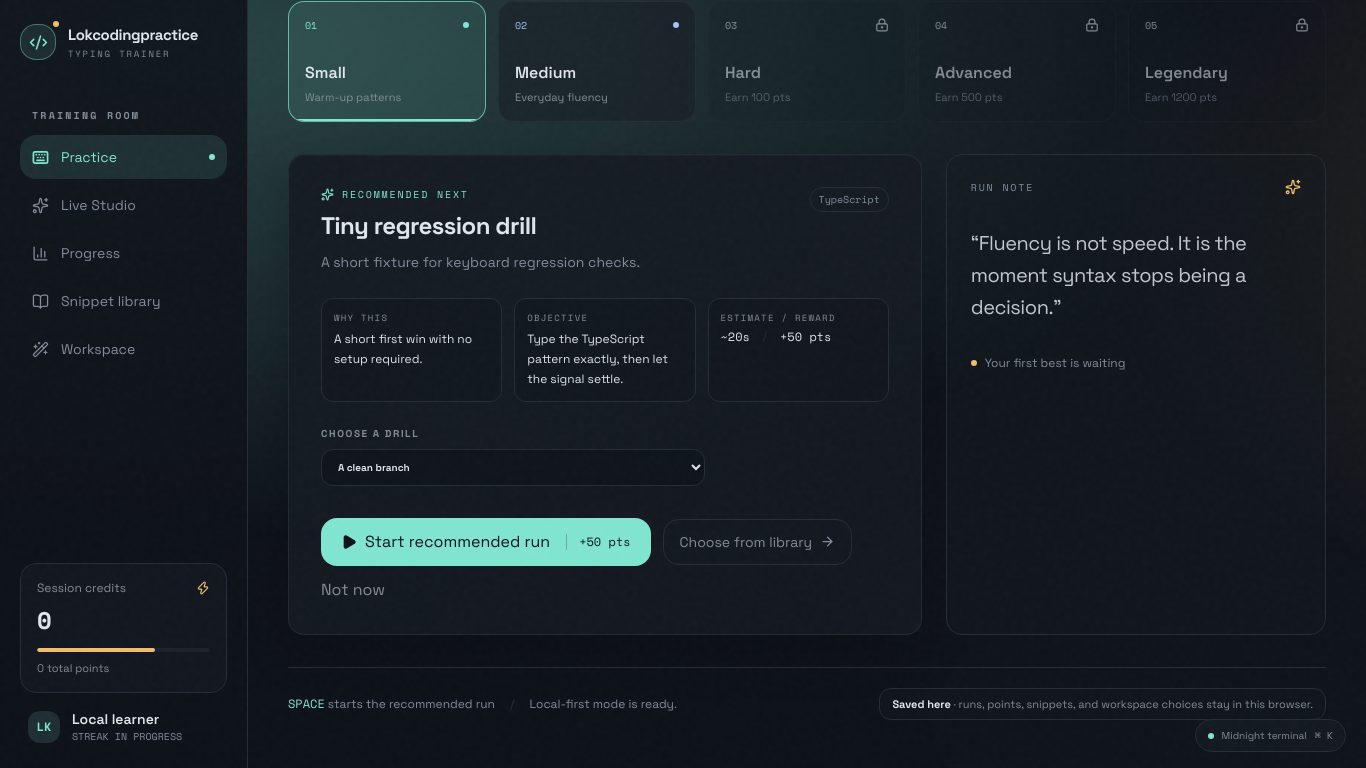
Scenario: typing drill regressions › abandons an active run without saving a result
The width and height of the screenshot is (1366, 768).
(page scrolled)
Select "Tiny regression drill · local" in the dropdown with test id "select-practice-snippet" at (513, 467), box left=321, top=448, right=705, bottom=486
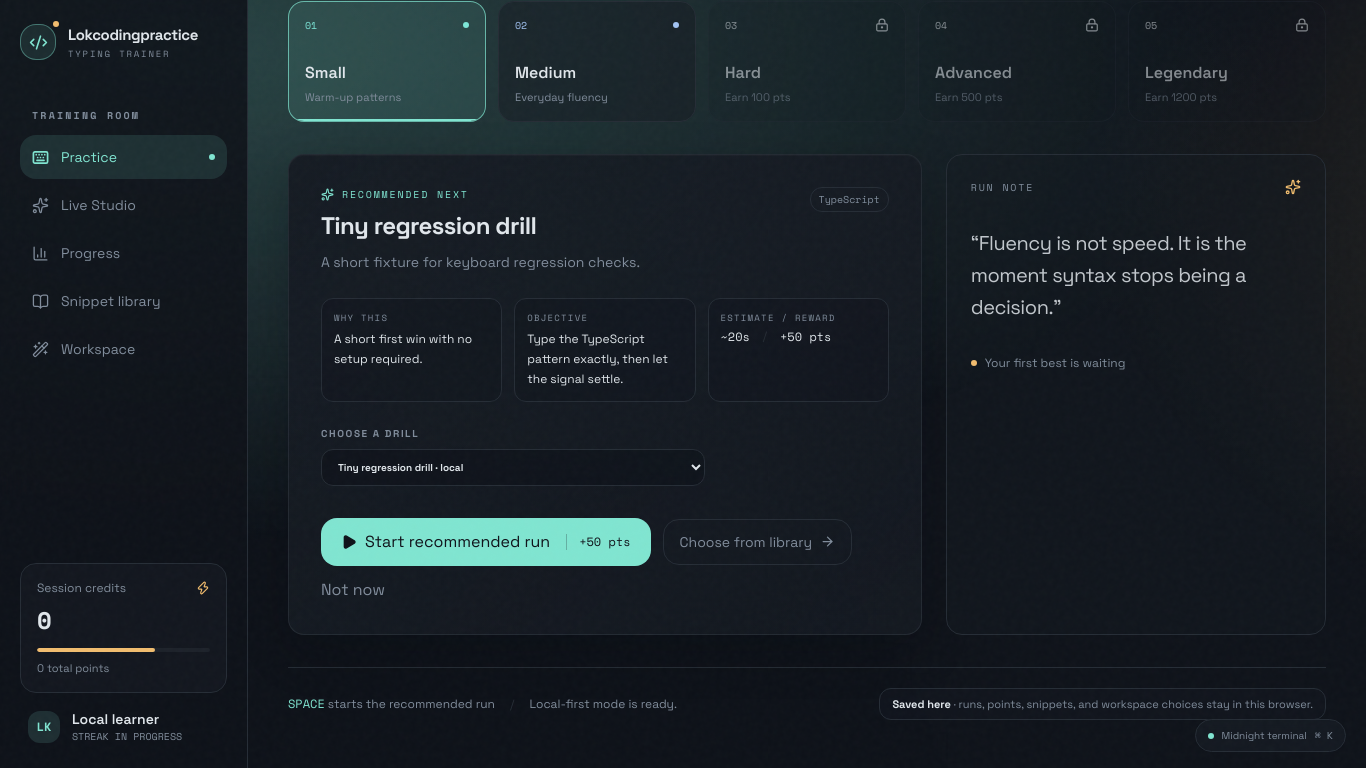
Click the button with test id "button-start-run".
click(486, 542)  # box left=321, top=518, right=651, bottom=566
(page scrolled)
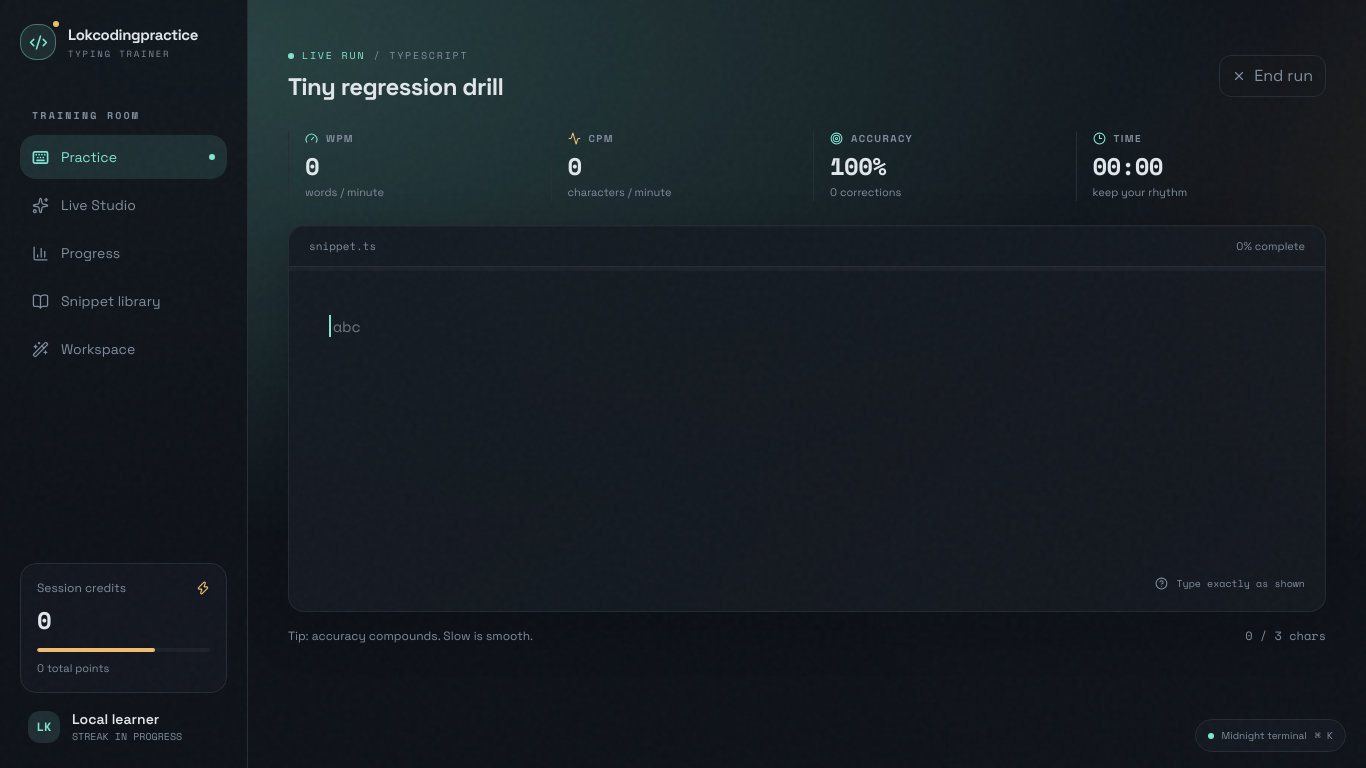
Press a in the field with test id "input-code-capture", box left=289, top=271, right=1325, bottom=611
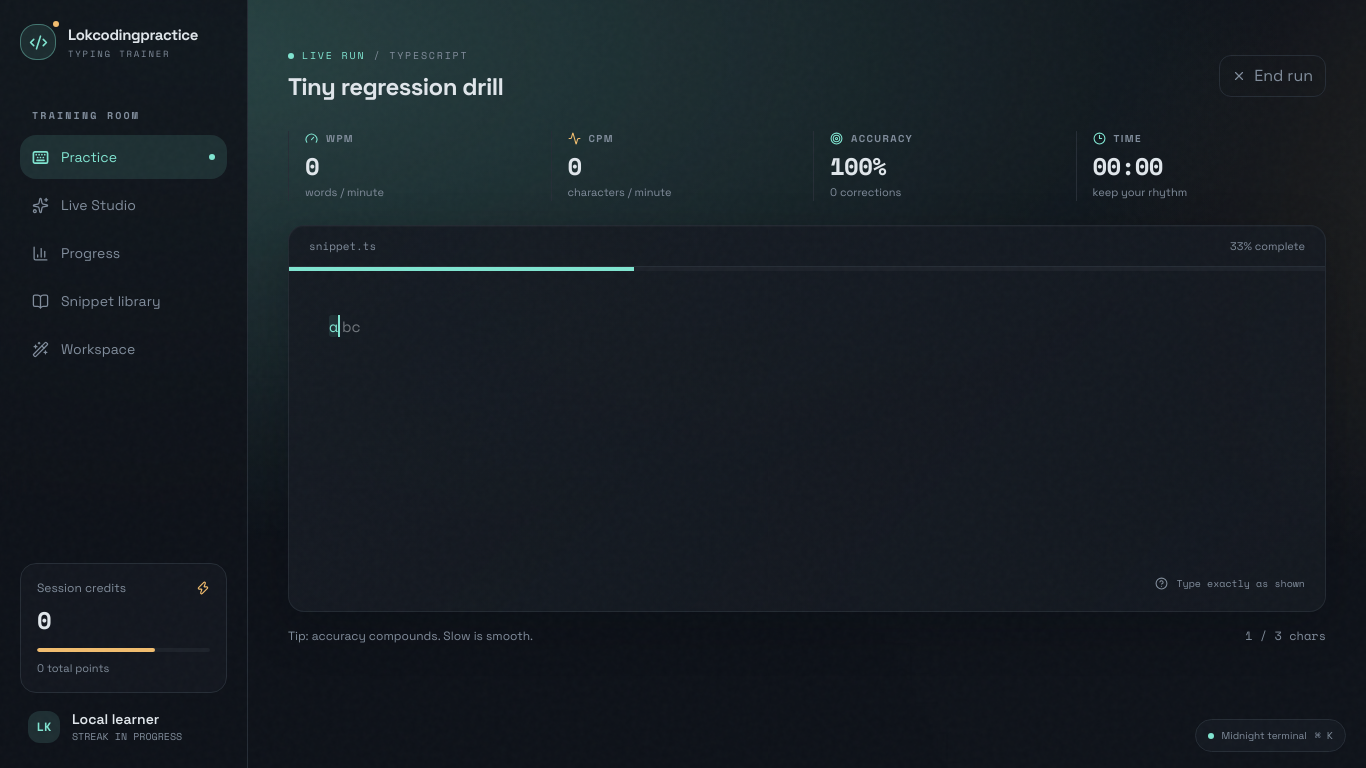
Click the button with test id "button-abandon-run".
click(1273, 76)  # box left=1219, top=54, right=1326, bottom=96
(page scrolled)
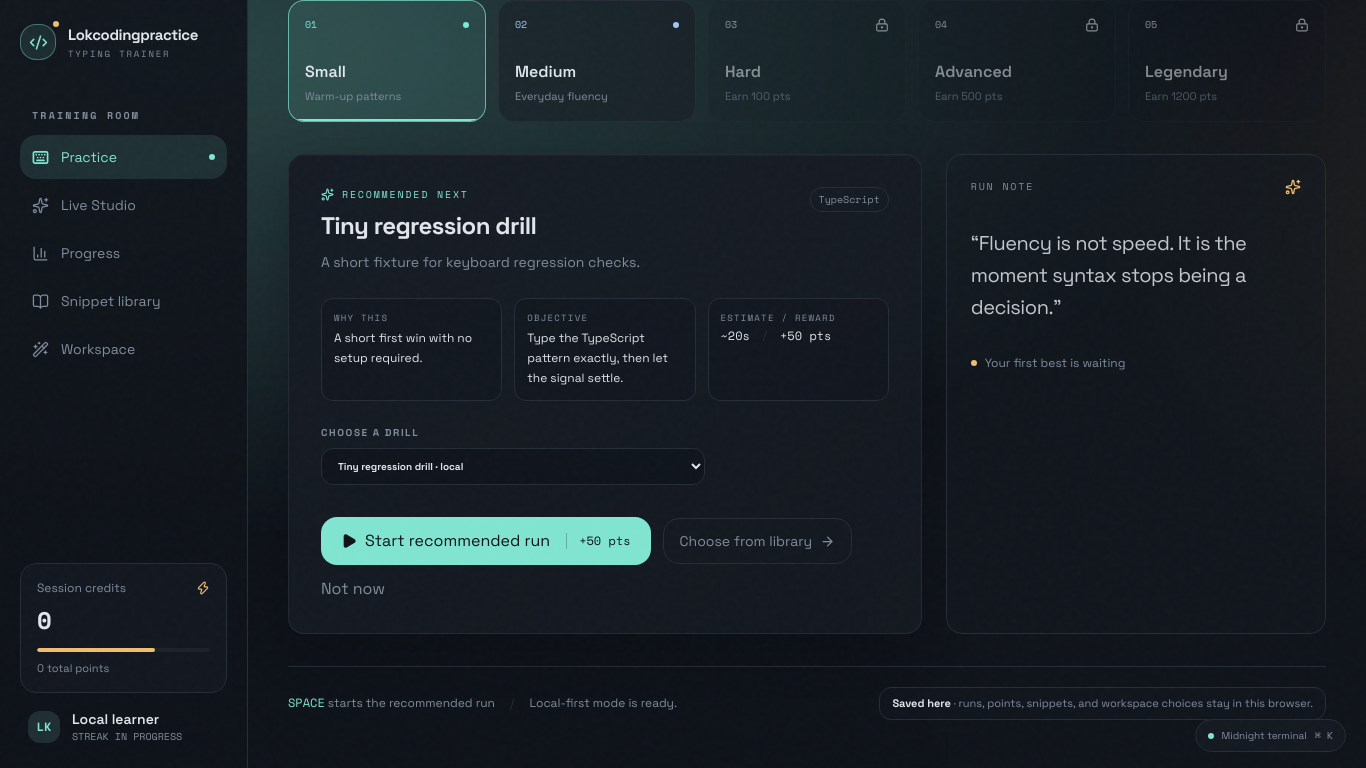
Now the button with test id "button-start-run" is shown, box left=321, top=517, right=651, bottom=565
